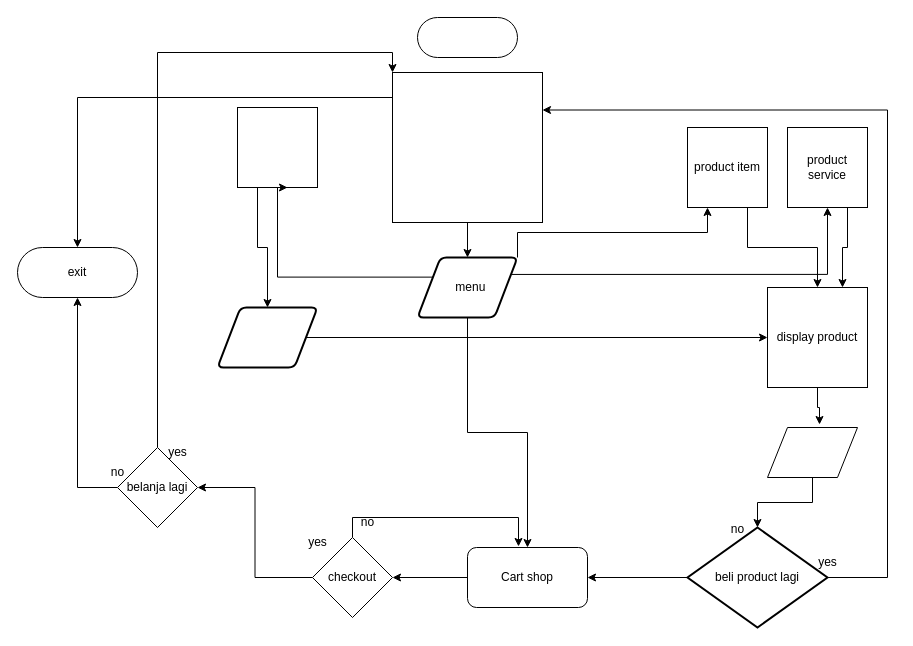
This 913x646 diagram has some shape labels left out. The shapes that lost their labels are listed below. From the top down, each one's centre as x and y in pixels, then its label:
[467,37]: Start
[277,147]: Searching Product
[467,147]: Menu 1.Product item 2. Product service 3. cart Shop 4. Seaching Product 00. exit
[267,337]: search
[812,452]: beli
